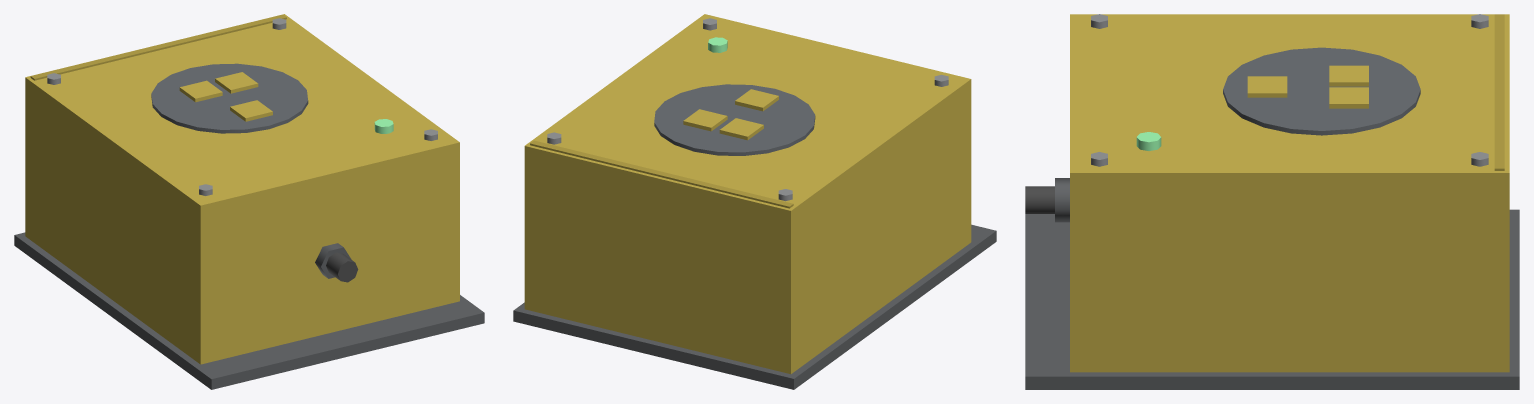
The model's file is lsDose_steel.glb.
3 views of the same model, side by side, from view 1: azimuth 30°, elevation 25°; view 2: azimuth 150°, elevation 25°; view 3: azimuth 270°, elevation 25° (orthographic). The views are drawn at different scales.
Visible parts, largest first — view 1: lsDose_steel; view 2: lsDose_steel; view 3: lsDose_steel.
Part boxes in pixels (x1=…): lsDose_steel: x1=14, y1=14, x2=484, y2=389; lsDose_steel: x1=513, y1=14, x2=996, y2=389; lsDose_steel: x1=1025, y1=14, x2=1519, y2=389.
Size of the model in its own units: 0.16 by 0.099 by 0.2.
